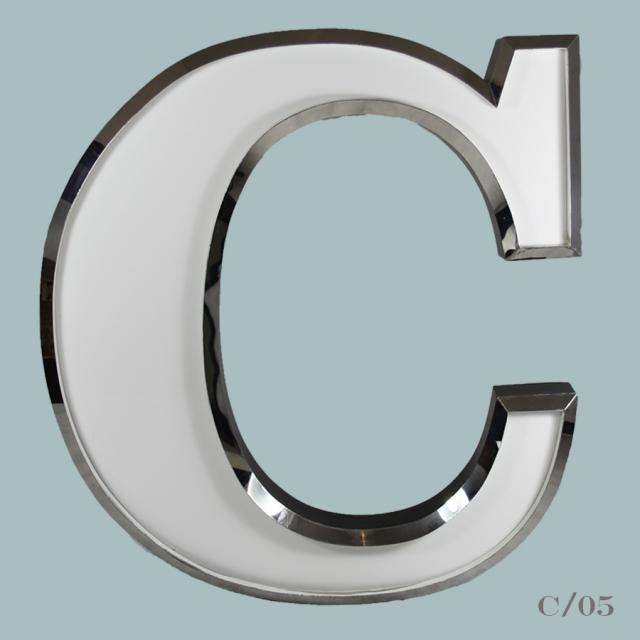C: (15, 10, 638, 633)
